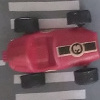rojo: (4, 12, 99, 88)
